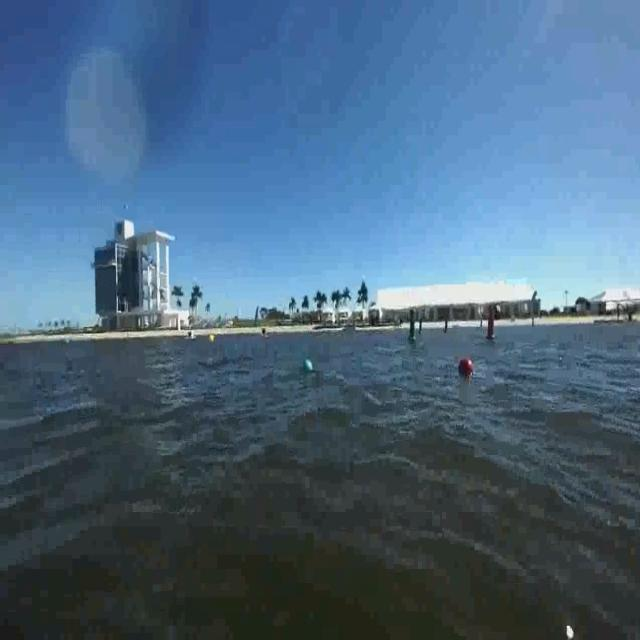green-buoy: (302, 359, 316, 376)
green-column-buoy: (408, 311, 418, 343)
red-buoy: (458, 358, 472, 374)
red-column-buoy: (486, 310, 498, 343)
yellow-buoy: (209, 334, 216, 345)
